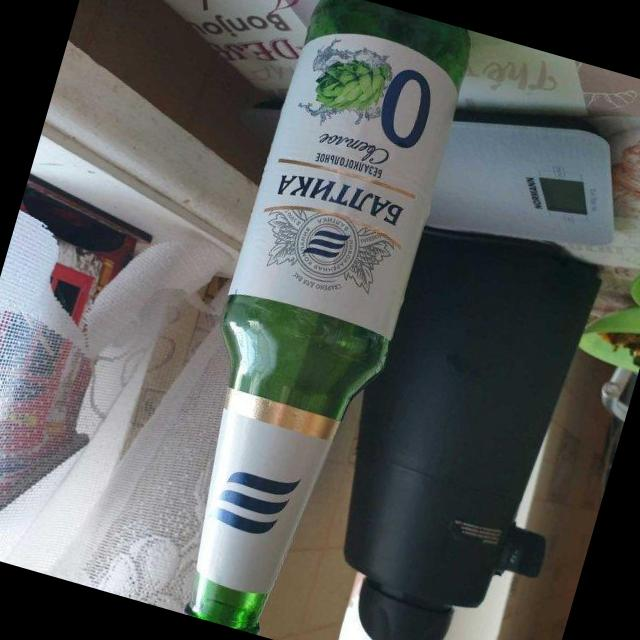BotolKaca: (137, 0, 482, 640)
